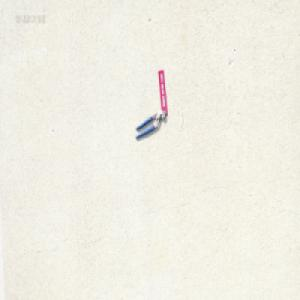Label: (157, 69, 167, 116)
Pliers: (134, 109, 166, 141)
